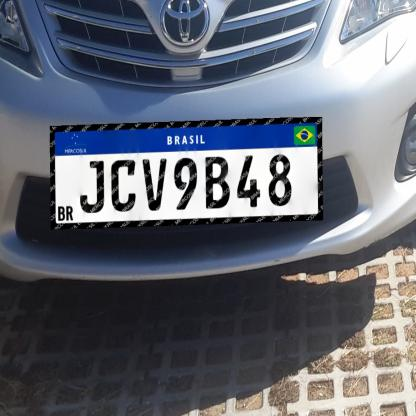PlacaM: (50, 117, 323, 229)
